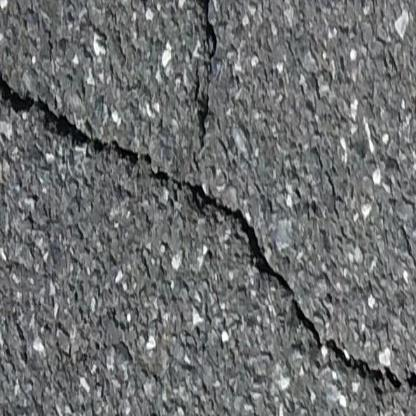Cracks: (0, 5, 416, 413), (189, 0, 223, 149)
